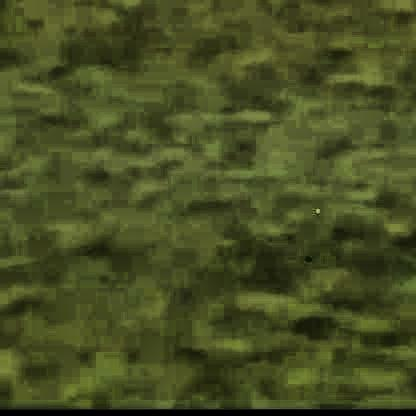golfball: (310, 205, 317, 212)
